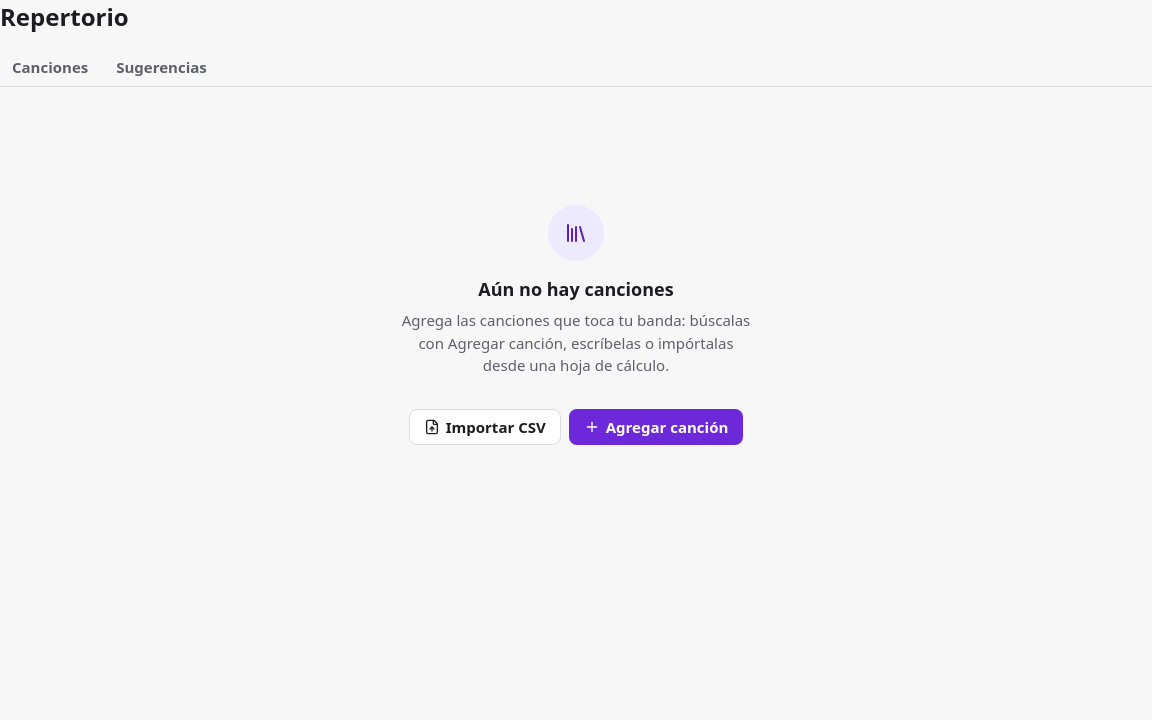
Test: LibraryPage › closes the dialog with Escape without saving
Click the button "Agregar canción".
click(656, 427)  # box top-left (569, 409), bottom-right (743, 445)
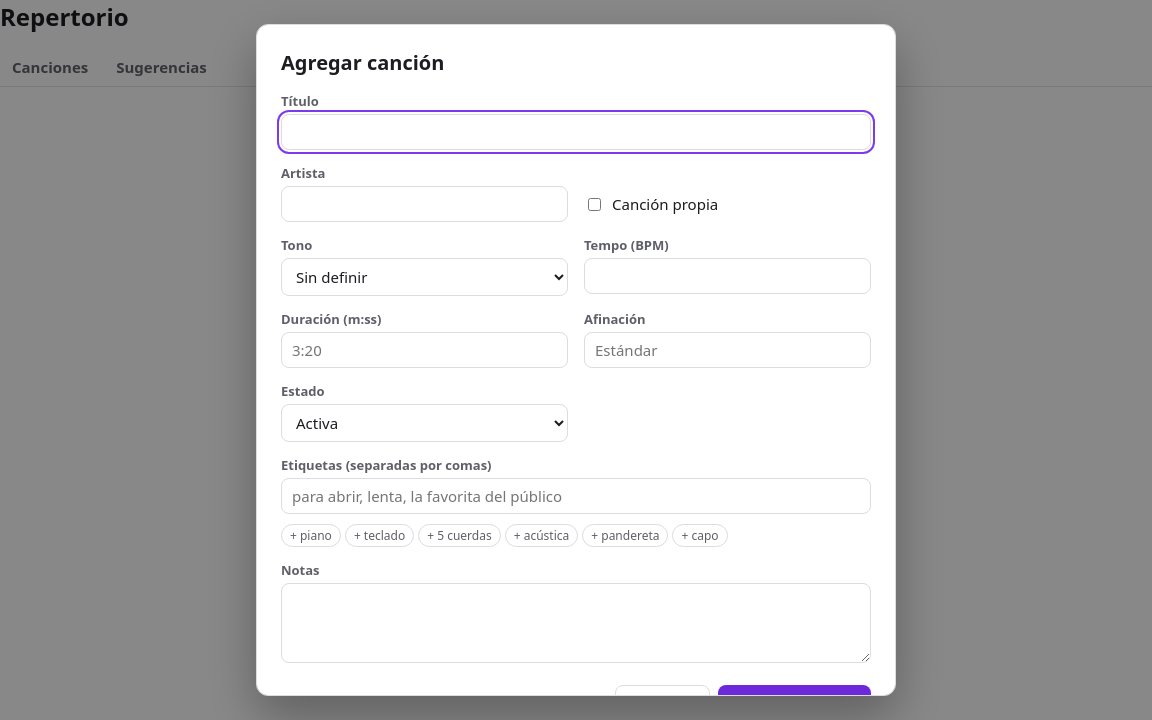
Type "Draft" into the field labelled "Título".
click(576, 132); type("Draft")  # box top-left (281, 114), bottom-right (871, 150)
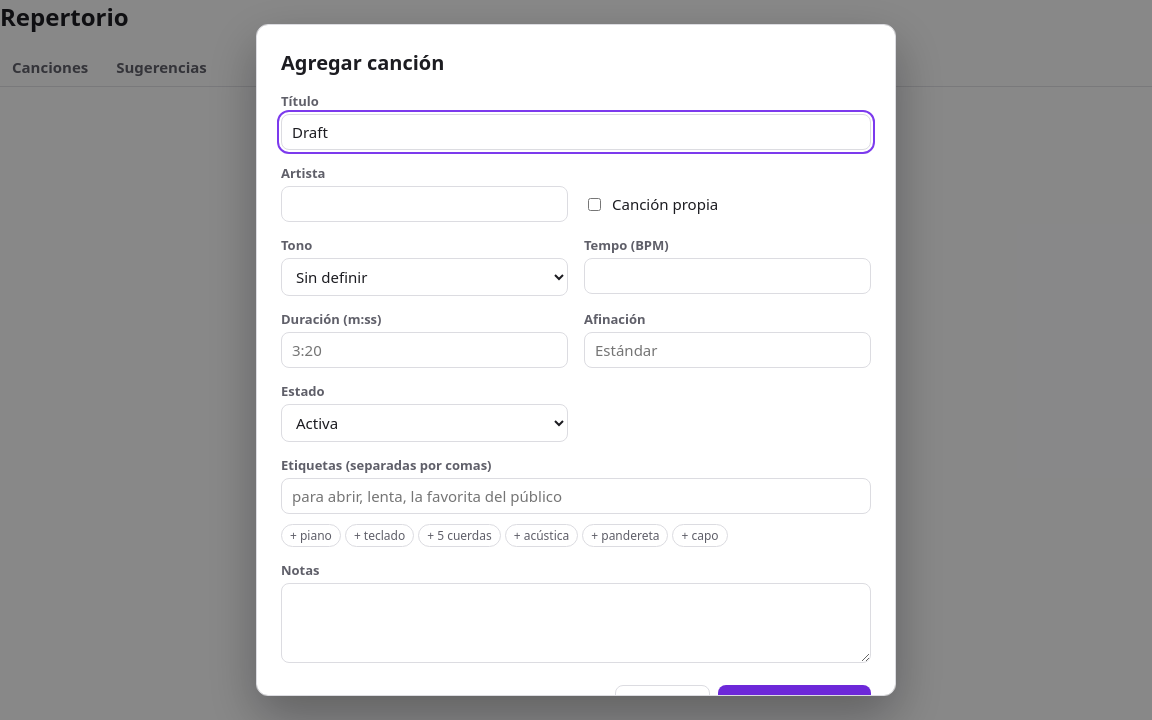
Press Escape
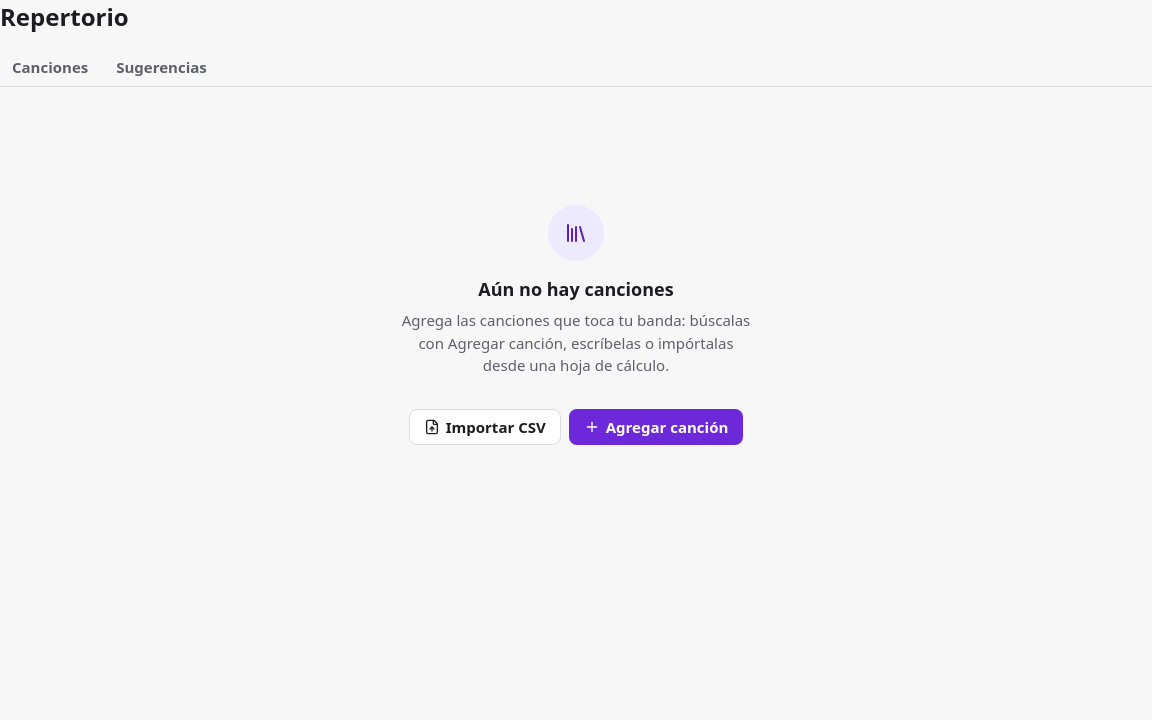
Check: the dialog is gone
